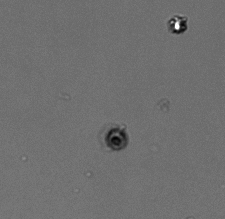Dead Cell: (106, 129, 128, 149)
Living Cell: (168, 14, 187, 35)
